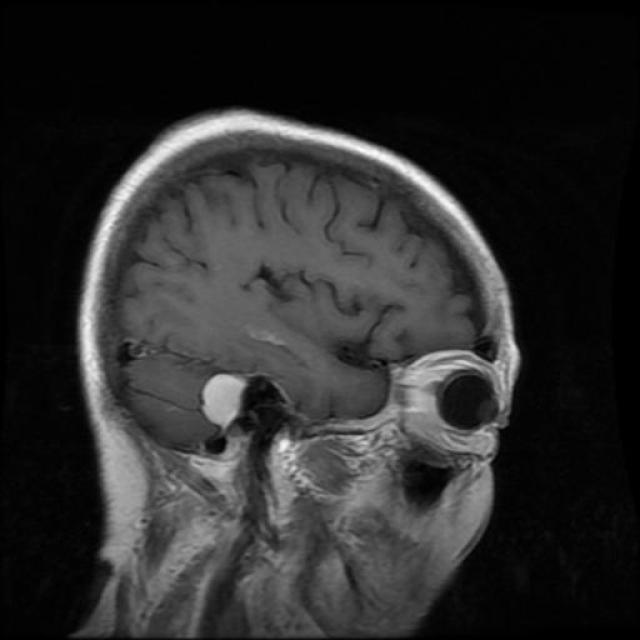meningioma: (201, 374, 246, 431)
